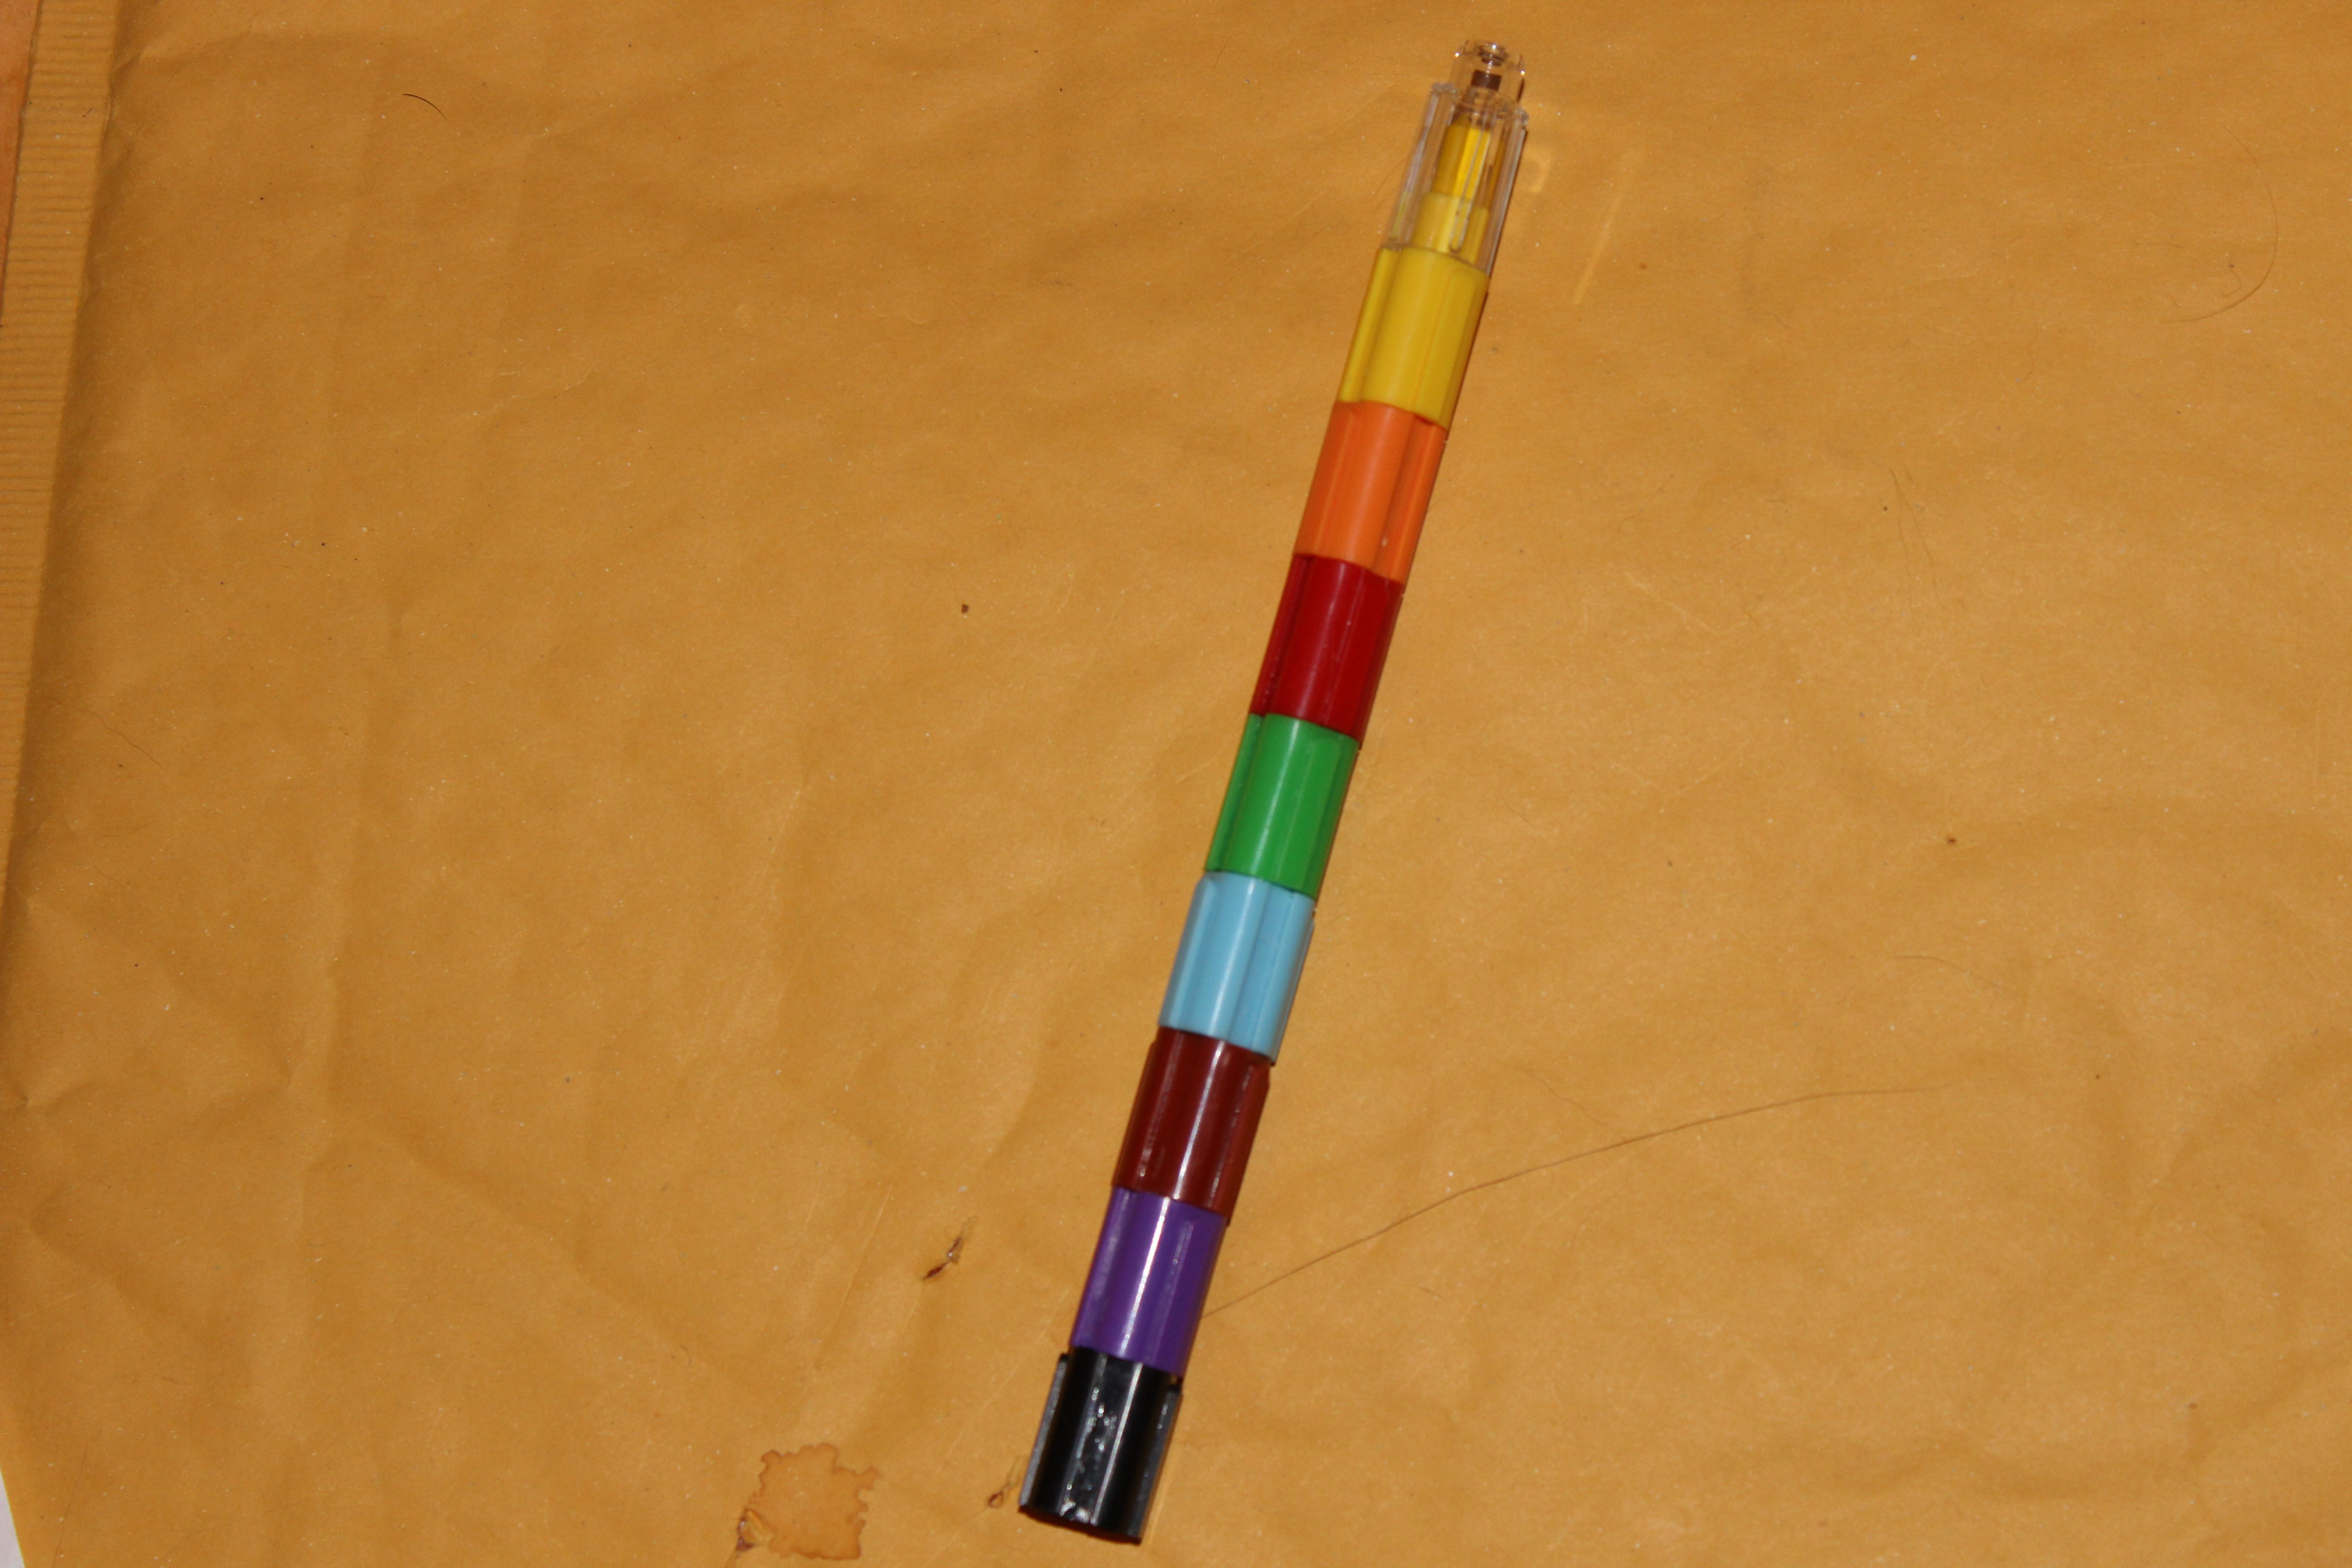rainbowPens: (978, 14, 1552, 1563)
